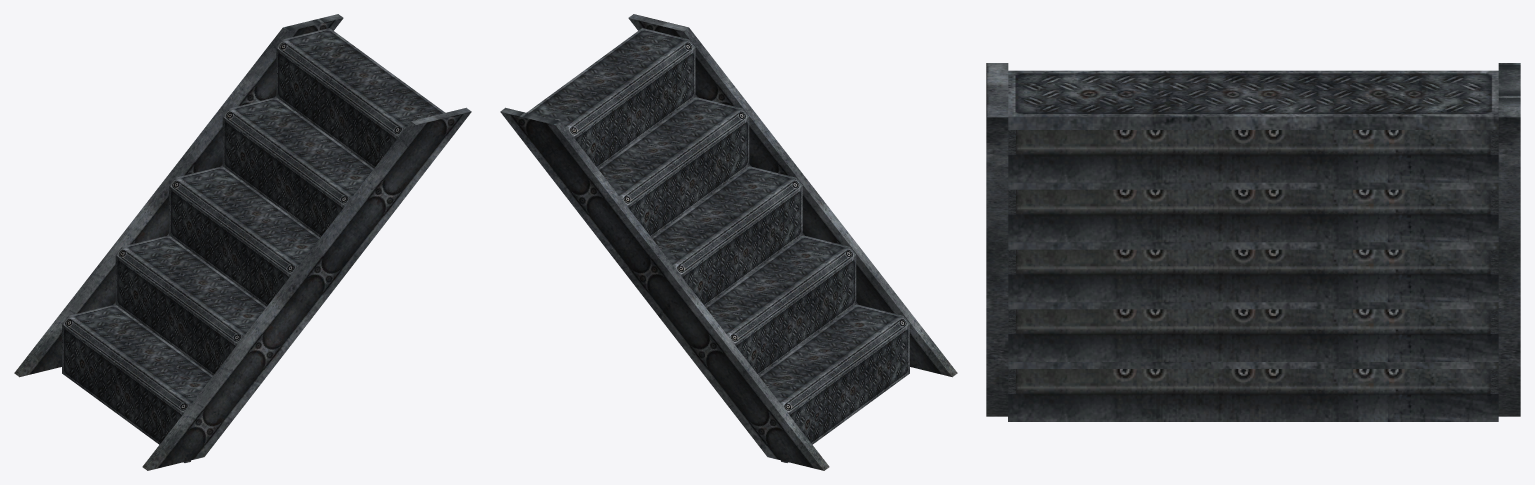
Rendered from metal_closable_middle.dae.
3 views of the same model, side by side, from view 1: azimuth 30°, elevation 25°; view 2: azimuth 150°, elevation 25°; view 3: azimuth 270°, elevation 25° (orthographic). The views are drawn at different scales.
Visible parts, largest first — view 1: polySurface999; view 2: polySurface999; view 3: polySurface999.
Boxes of the visible parts, box(x1,y1,x2,y2) form: polySurface999: box(14, 14, 471, 470); polySurface999: box(500, 14, 957, 470); polySurface999: box(986, 63, 1520, 421).
Size of the model in its own units: 2.42 by 2.05 by 1.73.
